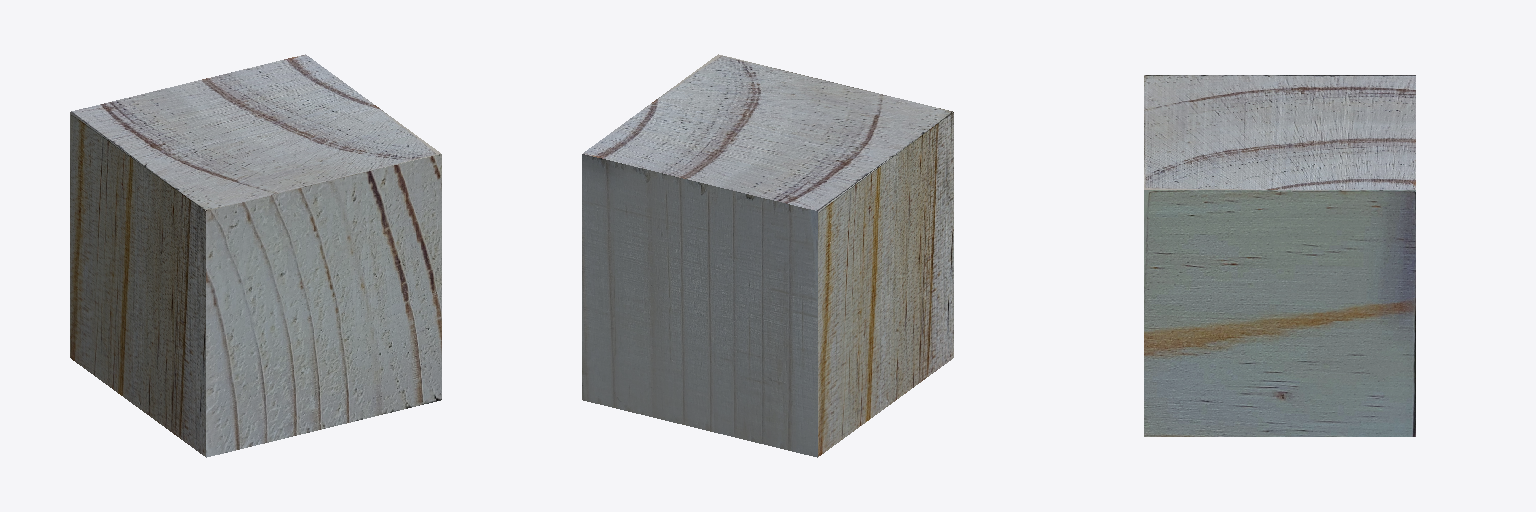
3 views of the same model, side by side, from view 1: azimuth 30°, elevation 25°; view 2: azimuth 150°, elevation 25°; view 3: azimuth 270°, elevation 25° (orthographic).
Visible parts, largest first — view 1: wood_cube; view 2: wood_cube; view 3: wood_cube.
Boxes of the visible parts, box(x1,y1,x2,y2) form: wood_cube: box(70, 54, 441, 457); wood_cube: box(582, 54, 953, 457); wood_cube: box(1144, 75, 1415, 436).
Size of the model in its own units: 0.05 by 0.05 by 0.05.
6 materials, 6 textured.